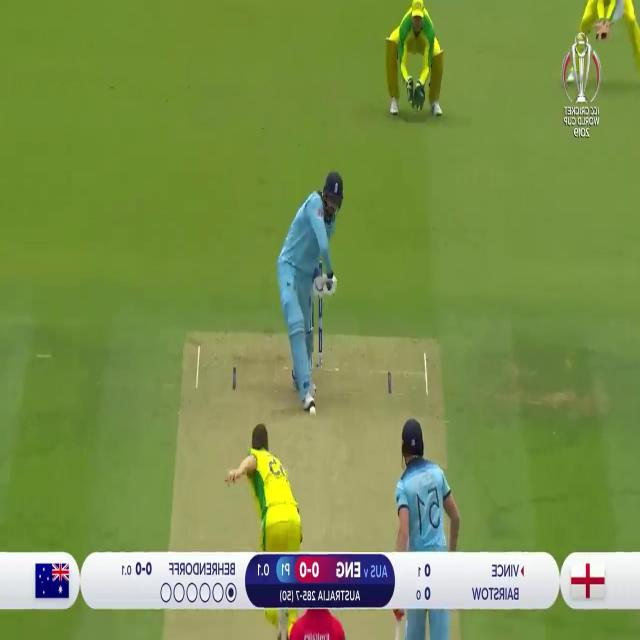ball: (306, 400, 320, 419)
